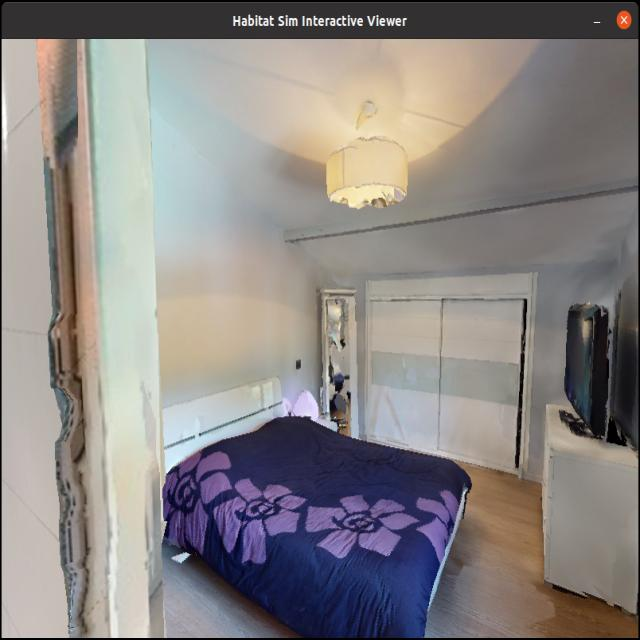bed: (152, 366, 477, 640)
